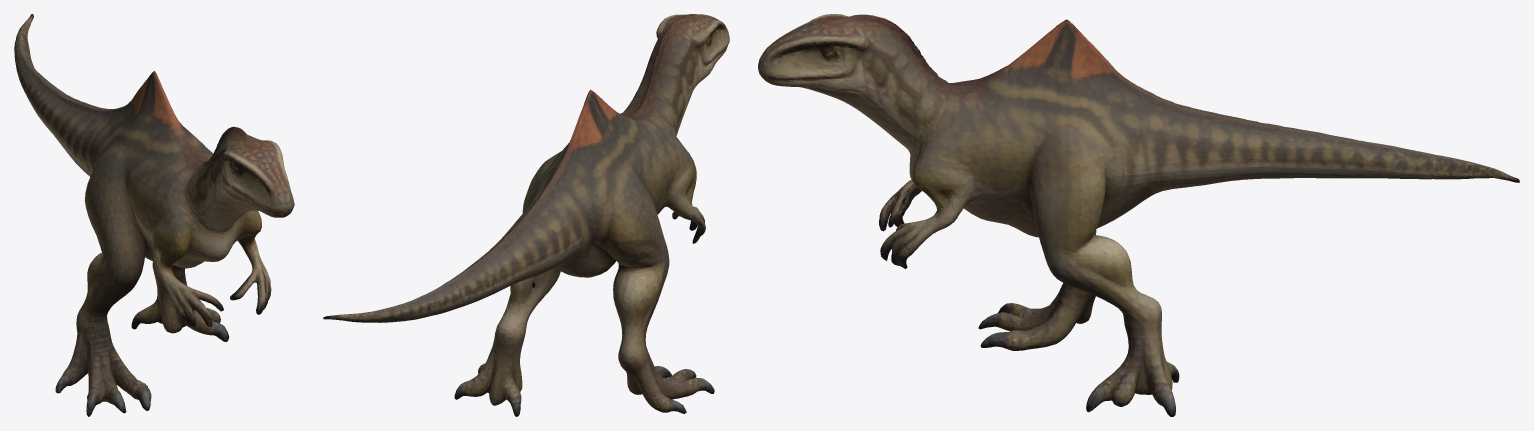
3 views of the same model, side by side, from view 1: azimuth 30°, elevation 25°; view 2: azimuth 150°, elevation 25°; view 3: azimuth 270°, elevation 25° (orthographic). The views are drawn at different scales.
Visible parts, largest first — view 1: geometry_0; view 2: geometry_0; view 3: geometry_0.
Boxes of the visible parts, left/top/right/bottom form: geometry_0: left=14, top=14, right=294, bottom=416; geometry_0: left=323, top=14, right=729, bottom=416; geometry_0: left=758, top=14, right=1519, bottom=416.
Size of the model in its own units: 2 by 3.11 by 6.
Materials: 2 (1 with a texture image).
